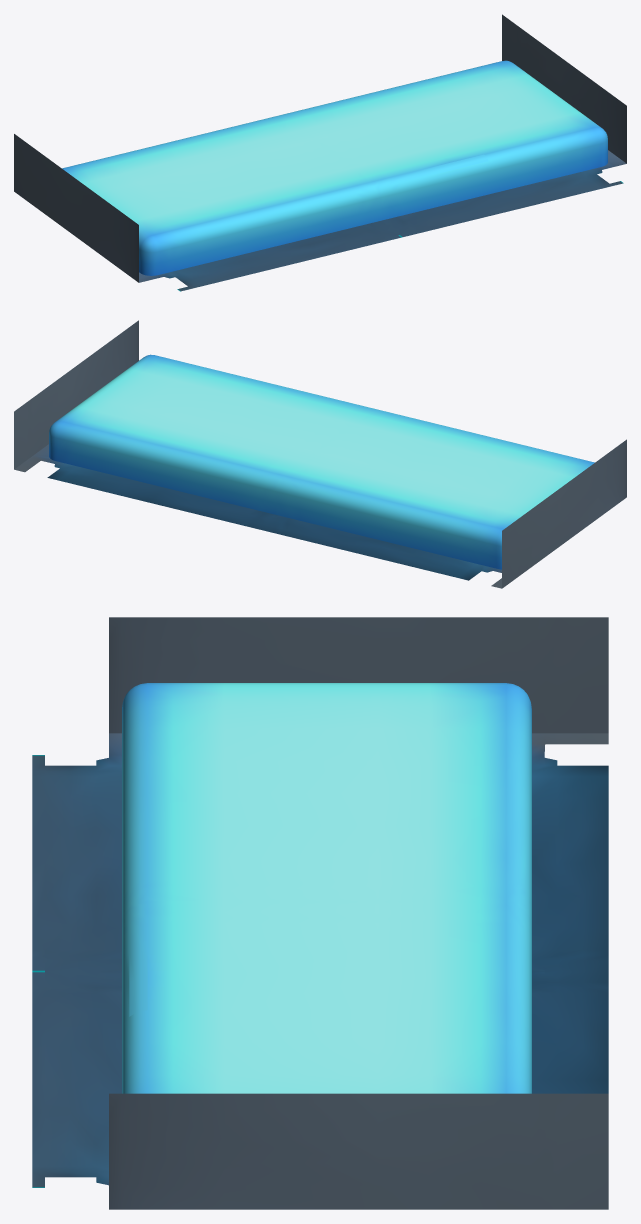
The model's file is Doube-roof.fbx.
3 renders of one model, top to bottom at view 1: azimuth 30°, elevation 25°; view 2: azimuth 150°, elevation 25°; view 3: azimuth 270°, elevation 25°, orthographic. The views are drawn at different scales.
Parts seen in each view (by area): view 1: Room.018; view 2: Room.018; view 3: Room.018.
Boxes of the visible parts, box(x1,y1,x2,y2) form: Room.018: box(14, 14, 626, 291); Room.018: box(14, 320, 626, 588); Room.018: box(32, 617, 608, 1209).
Size of the model in its own units: 4400 by 500 by 2250.
